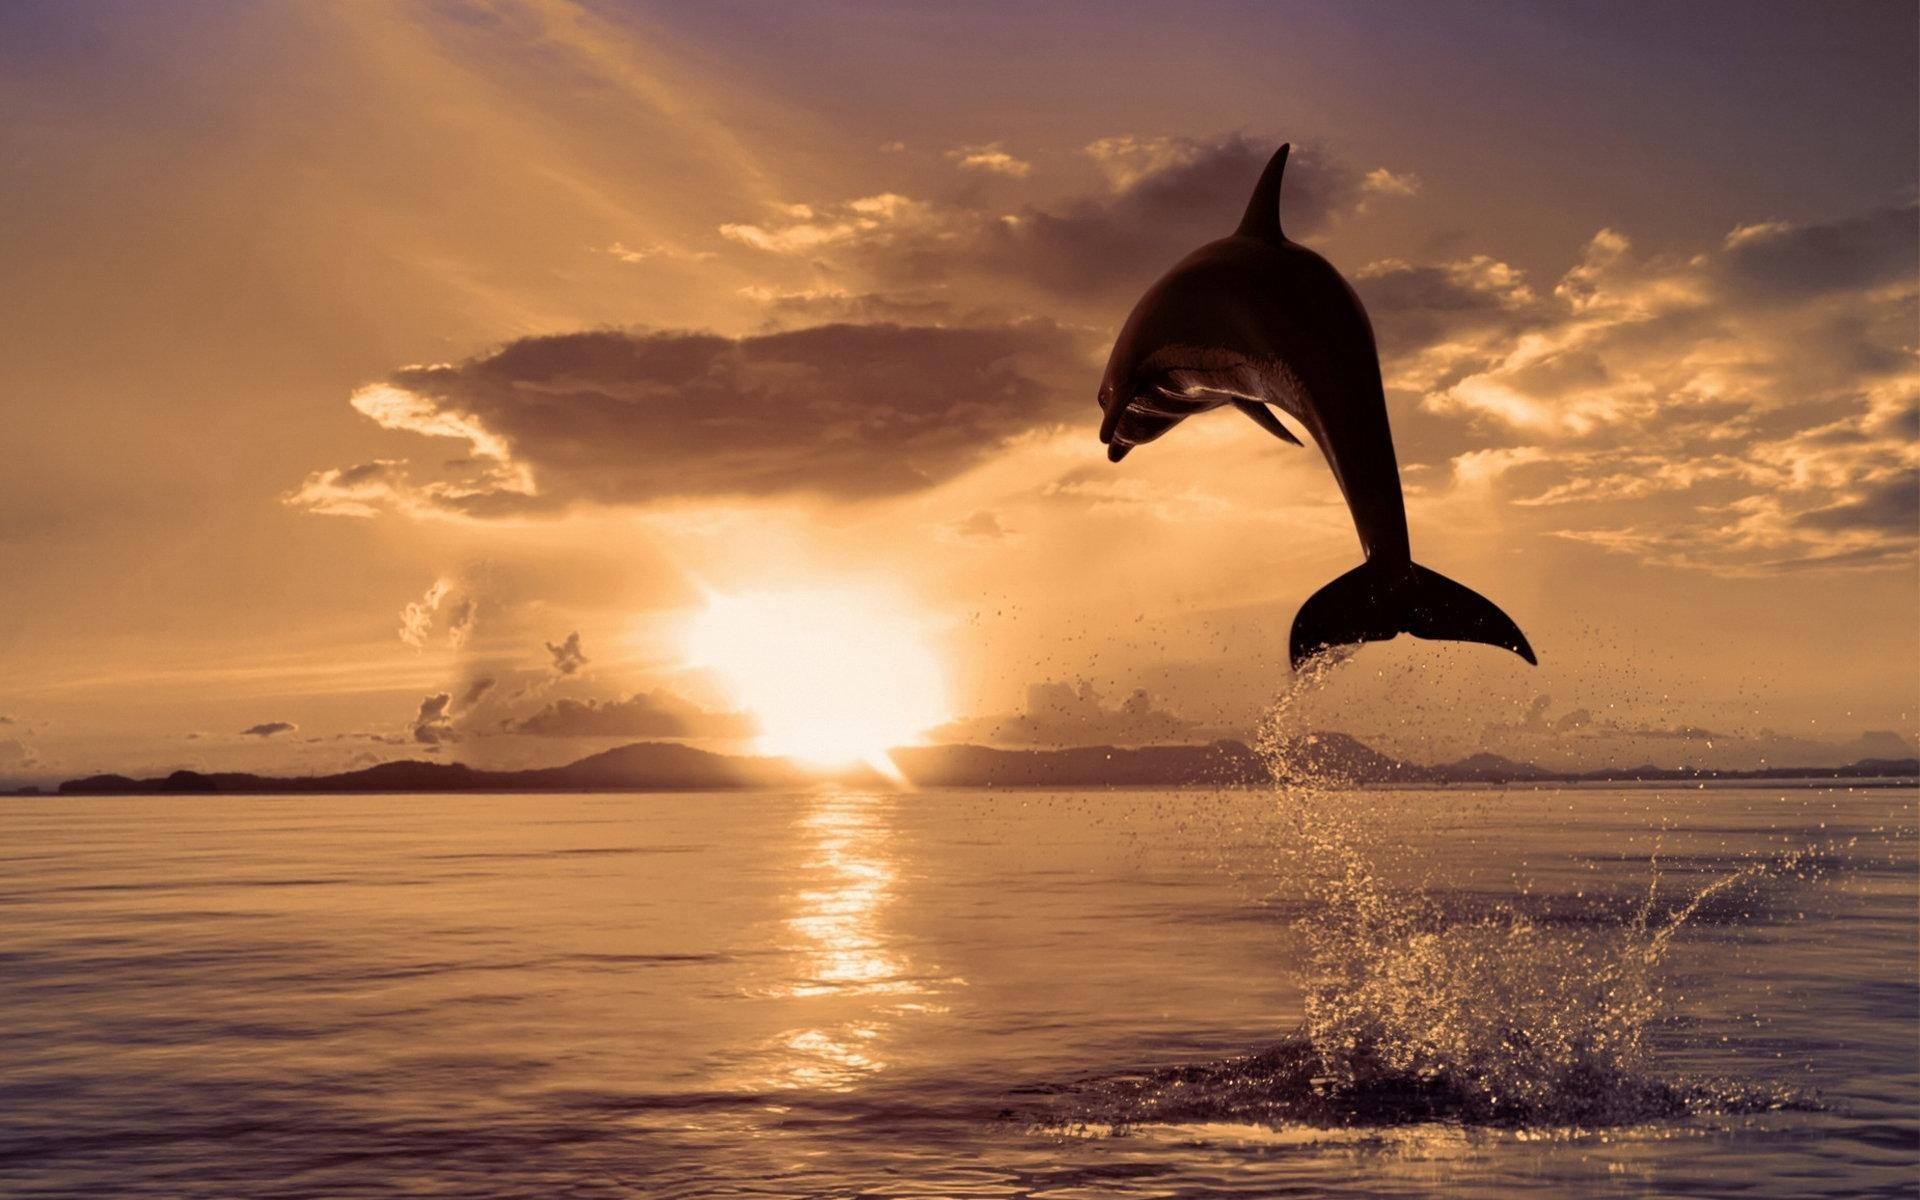fish: (1100, 129, 1552, 676)
